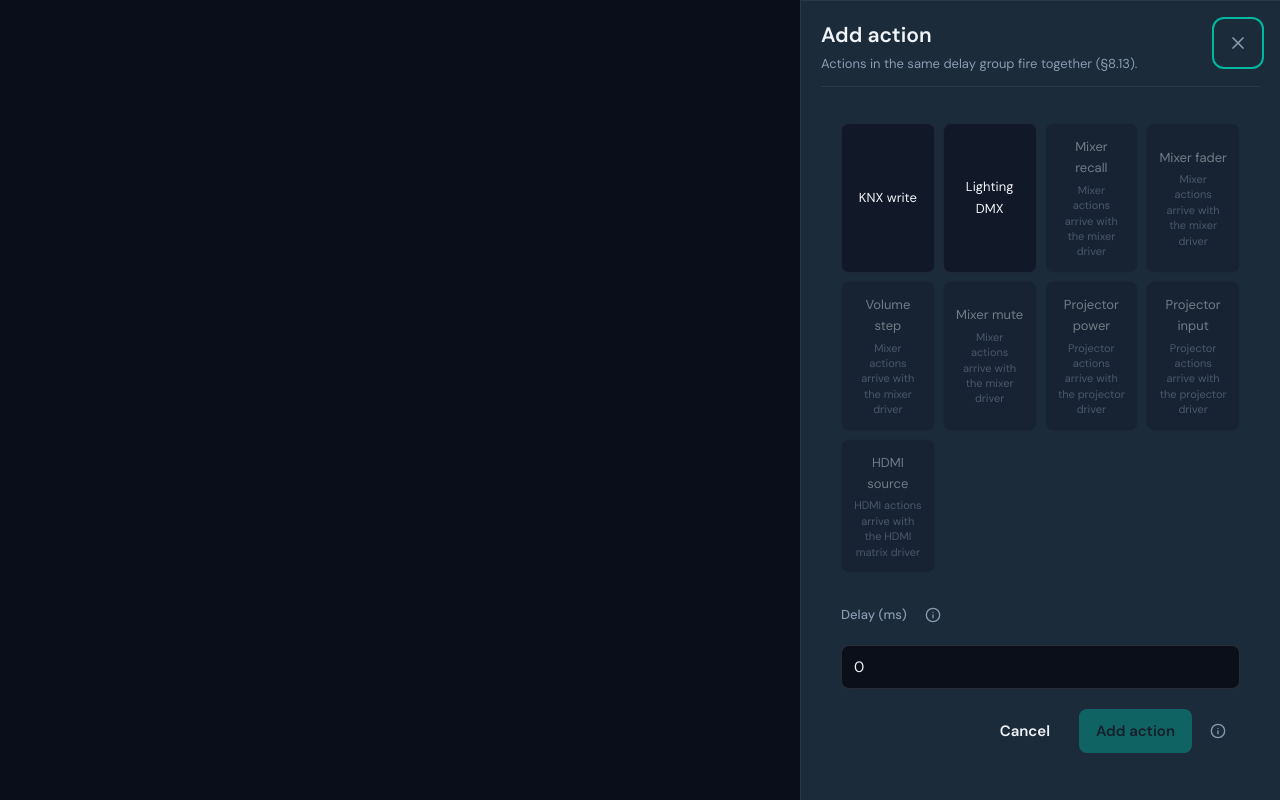
Scenario: ActionEditorSheet › a 422 on save shows field errors next to the fields they name
This screenshot has width=1280, height=800.
Click the button "Lighting DMX" at (990, 198), box [943,123,1037,273]
(page scrolled)
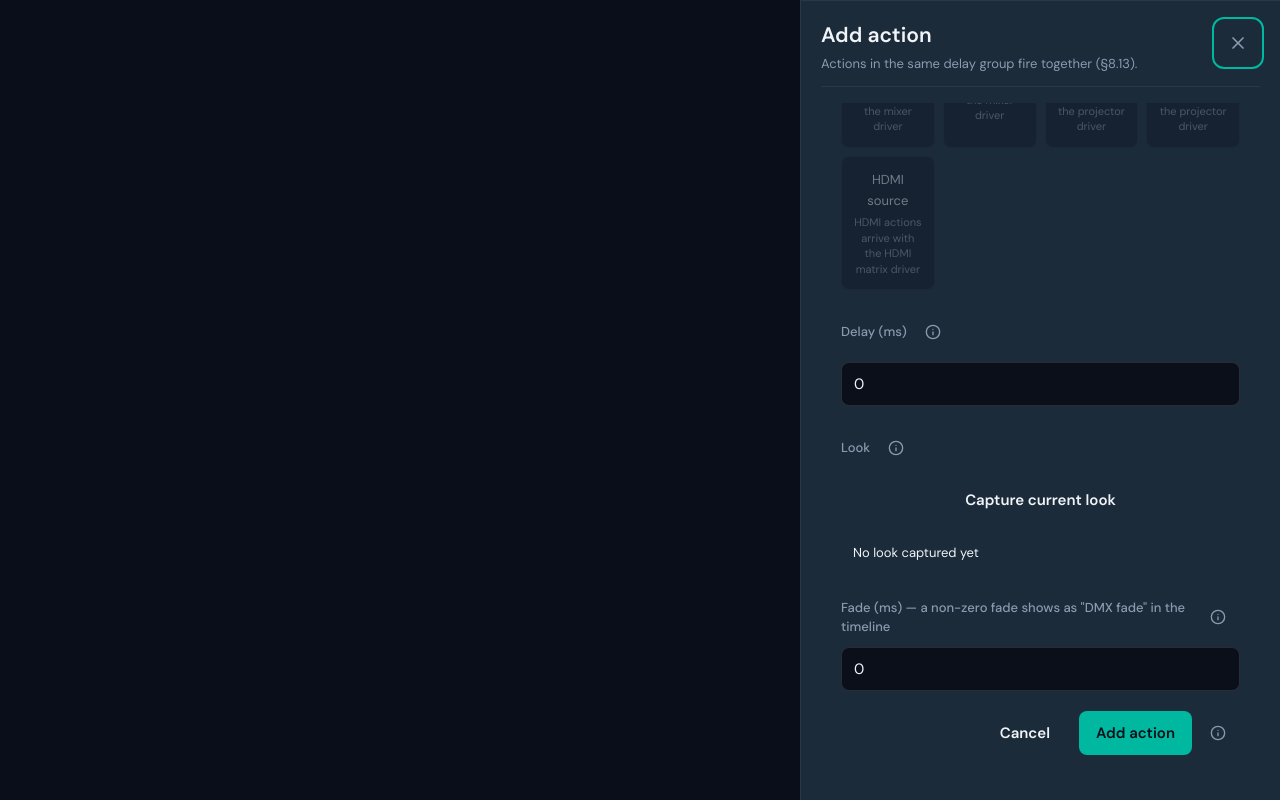
Click the button "Add action" at (1136, 733), box [1079,711,1192,755]
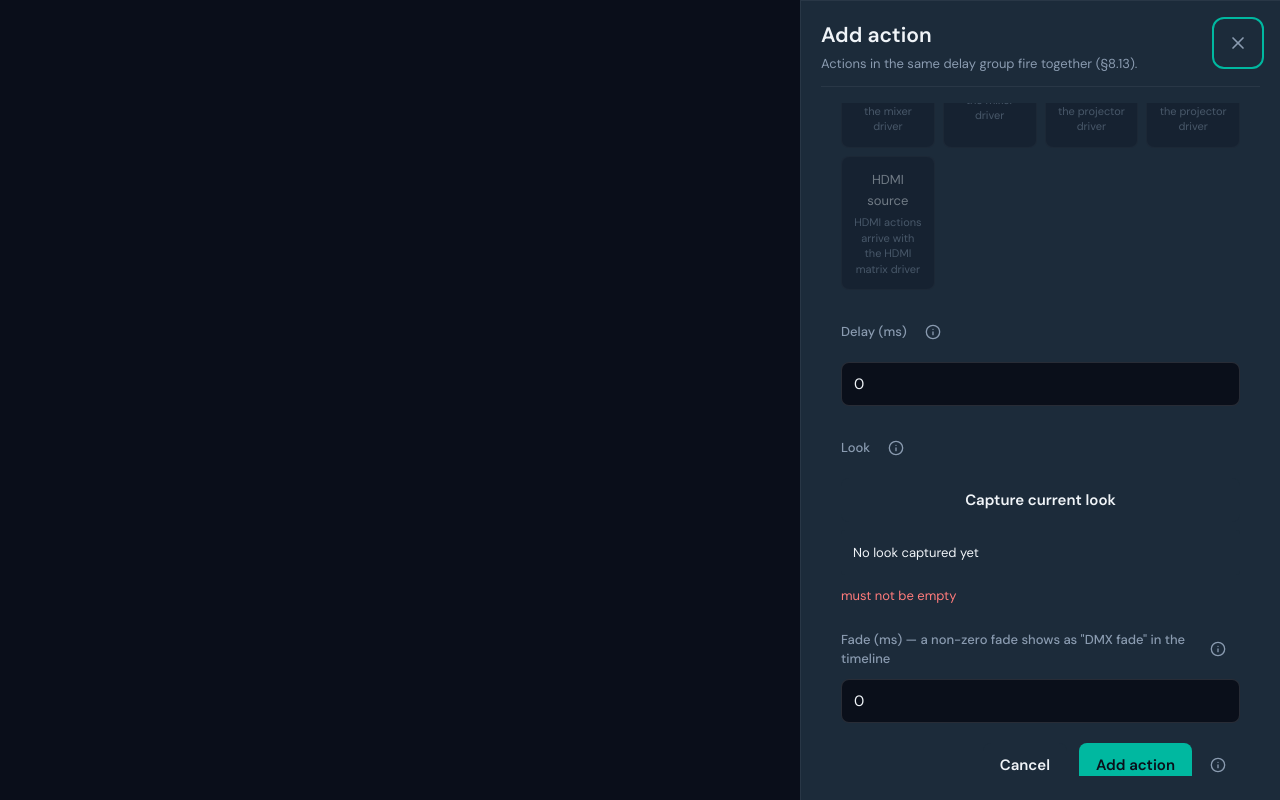
expect the text "must not be empty" is shown: met, box [841,586,956,605]
